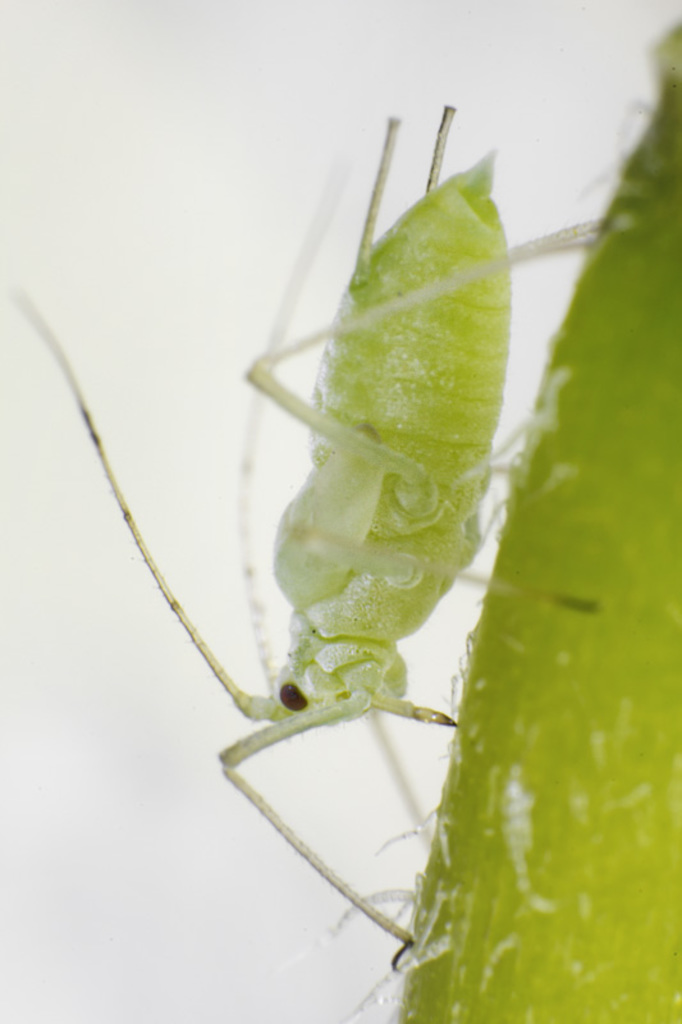person: (262, 408, 477, 707)
